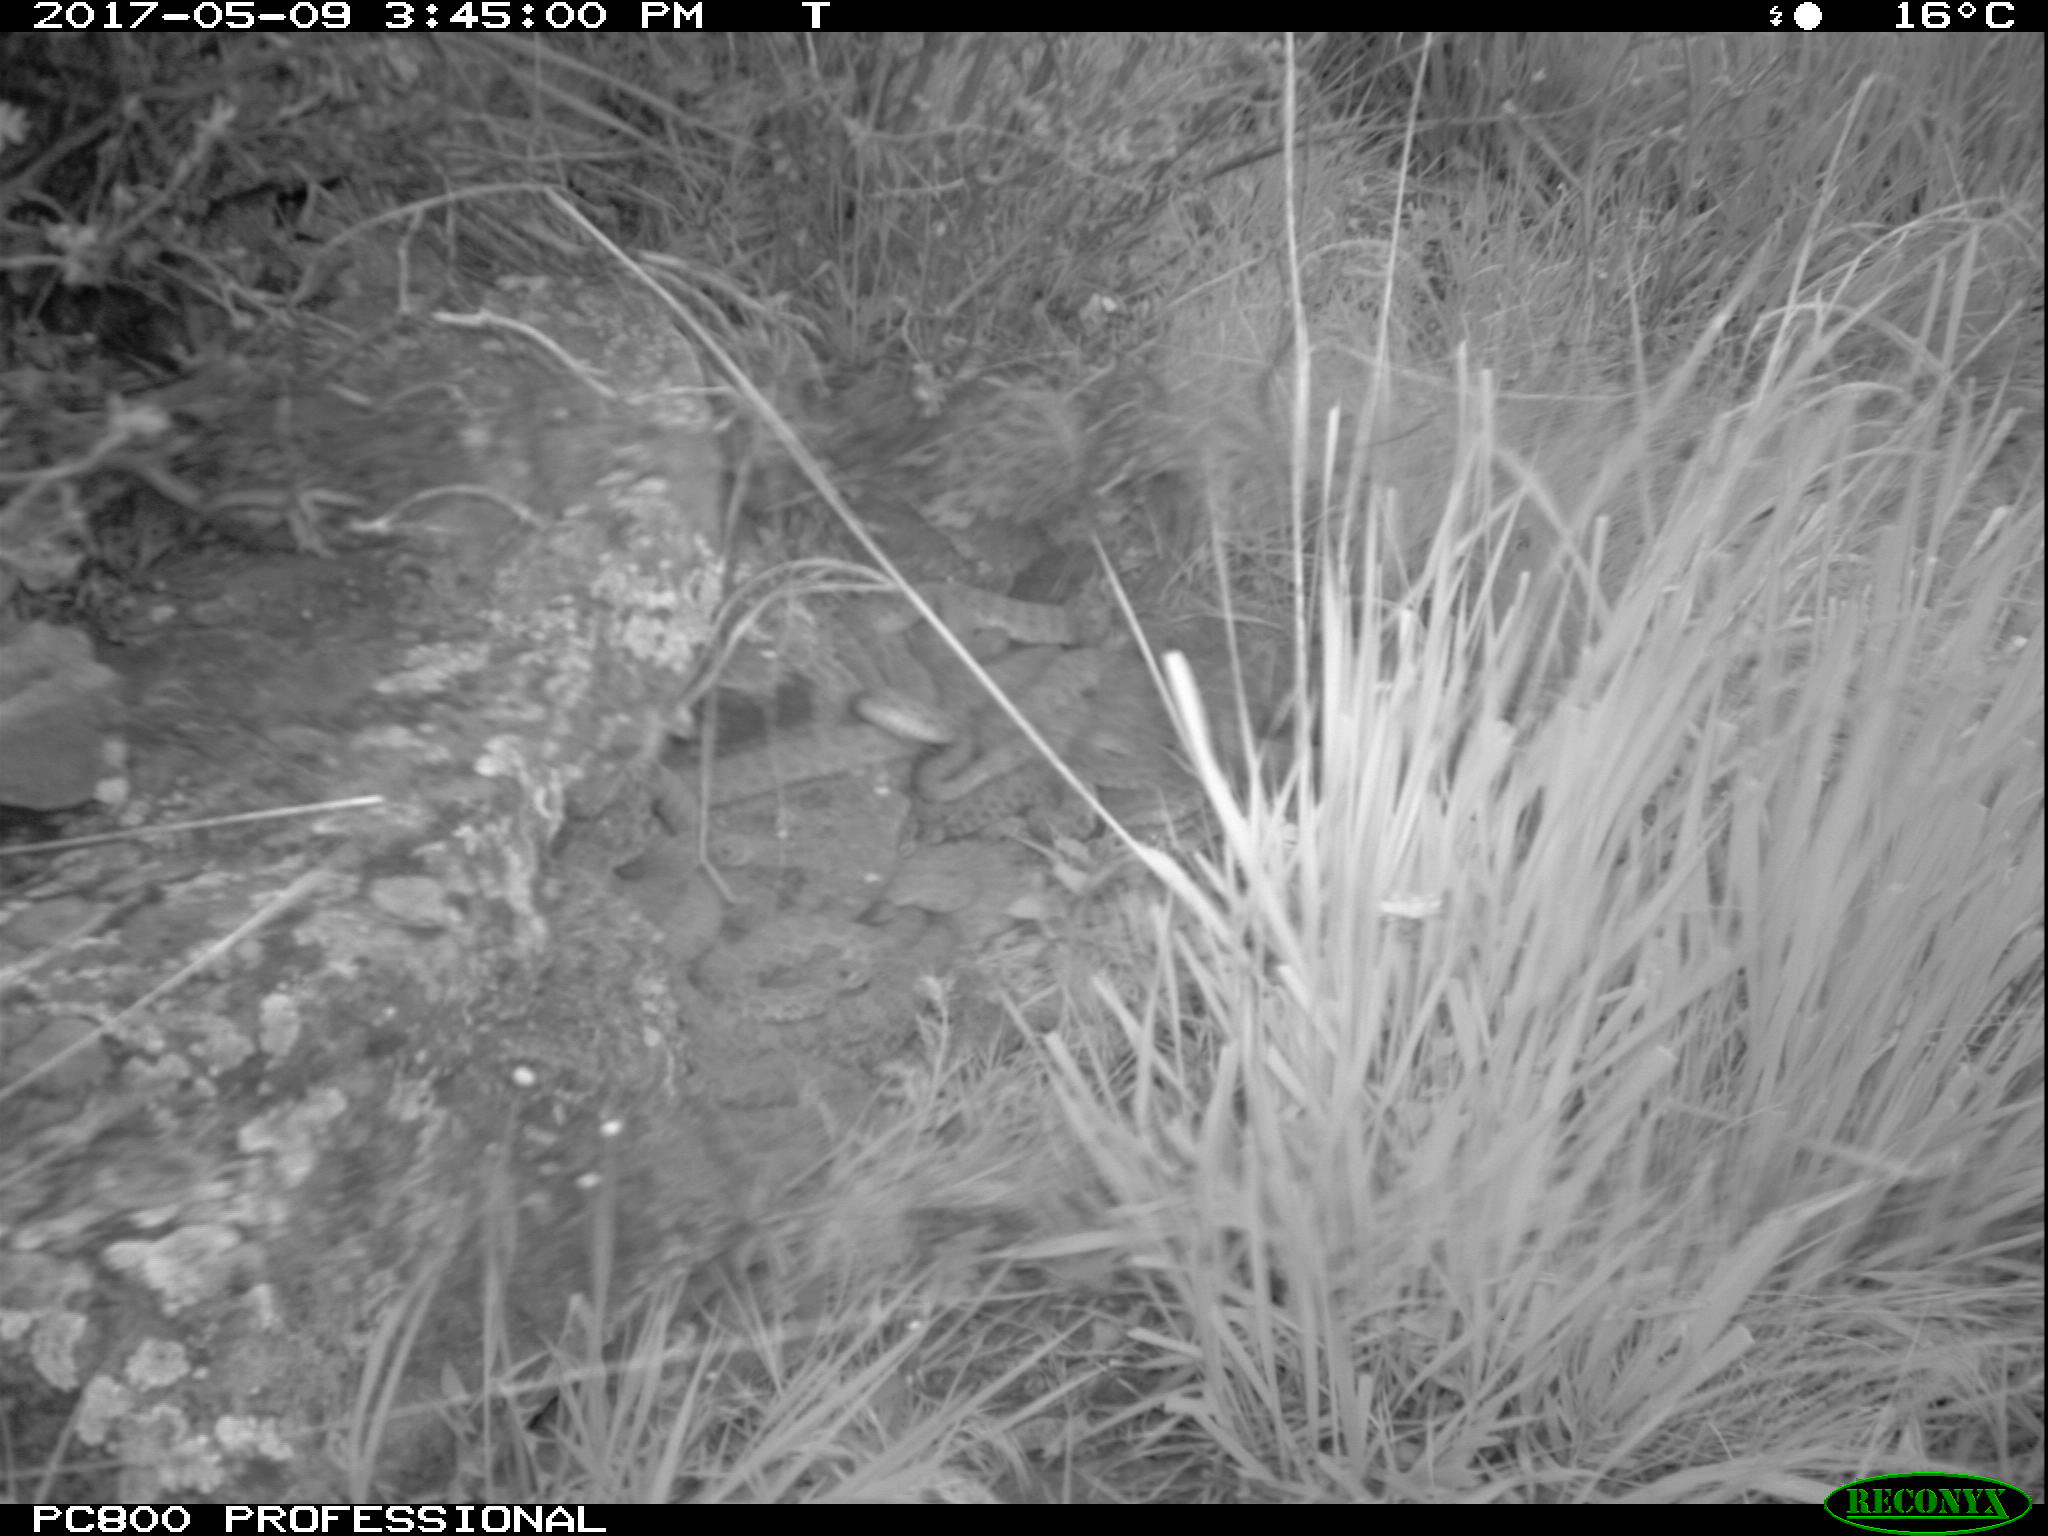snake: (863, 699, 1103, 841), (701, 916, 926, 1054), (660, 721, 922, 828), (901, 586, 1156, 666)
